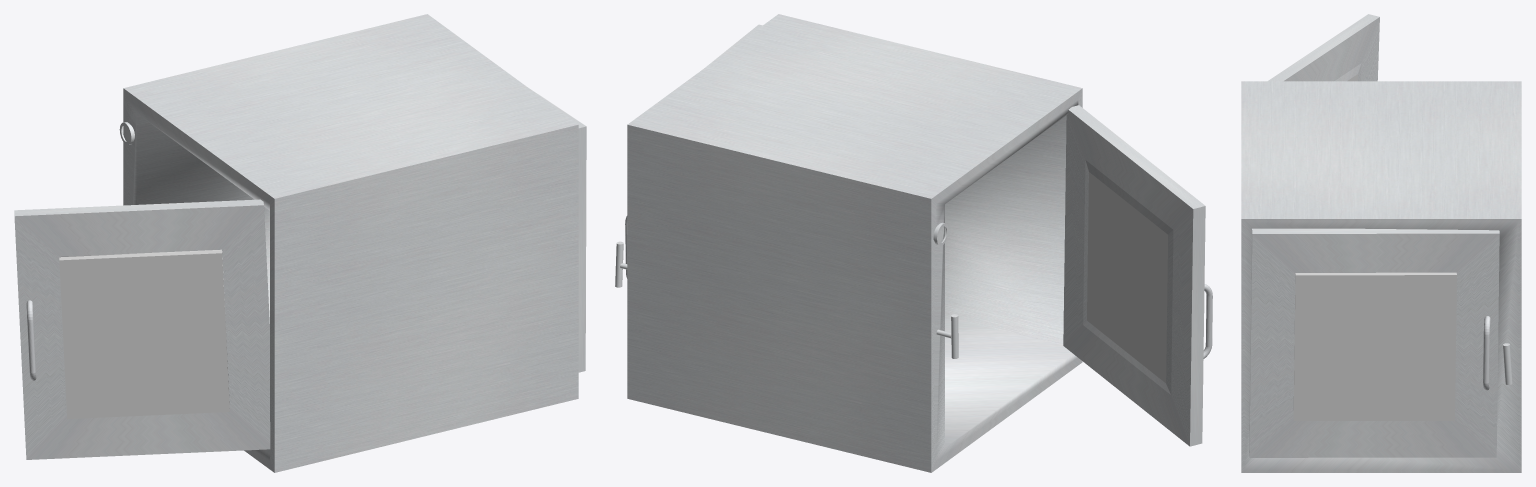
The model's file is 傳送箱 (1).fbx.
3 views of the same model, side by side, from view 1: azimuth 30°, elevation 25°; view 2: azimuth 150°, elevation 25°; view 3: azimuth 270°, elevation 25° (orthographic). The views are drawn at different scales.
Visible parts, largest first — view 1: Cylinder001, Box002, Box004; view 2: Cylinder001, Box002; view 3: Box004, Cylinder001, Box002.
Boxes of the visible parts, box(x1,y1,x2,y2) form: Cylinder001: box(119, 14, 578, 472); Box002: box(14, 199, 270, 459); Box004: box(529, 88, 586, 372); Cylinder001: box(615, 14, 1082, 472); Box002: box(1063, 105, 1212, 446); Box004: box(1249, 228, 1499, 457); Cylinder001: box(1241, 81, 1521, 472); Box002: box(1268, 14, 1379, 81).
Bounding box in the file's own units: 154 × 78 × 78.
2 materials, 1 textured.
